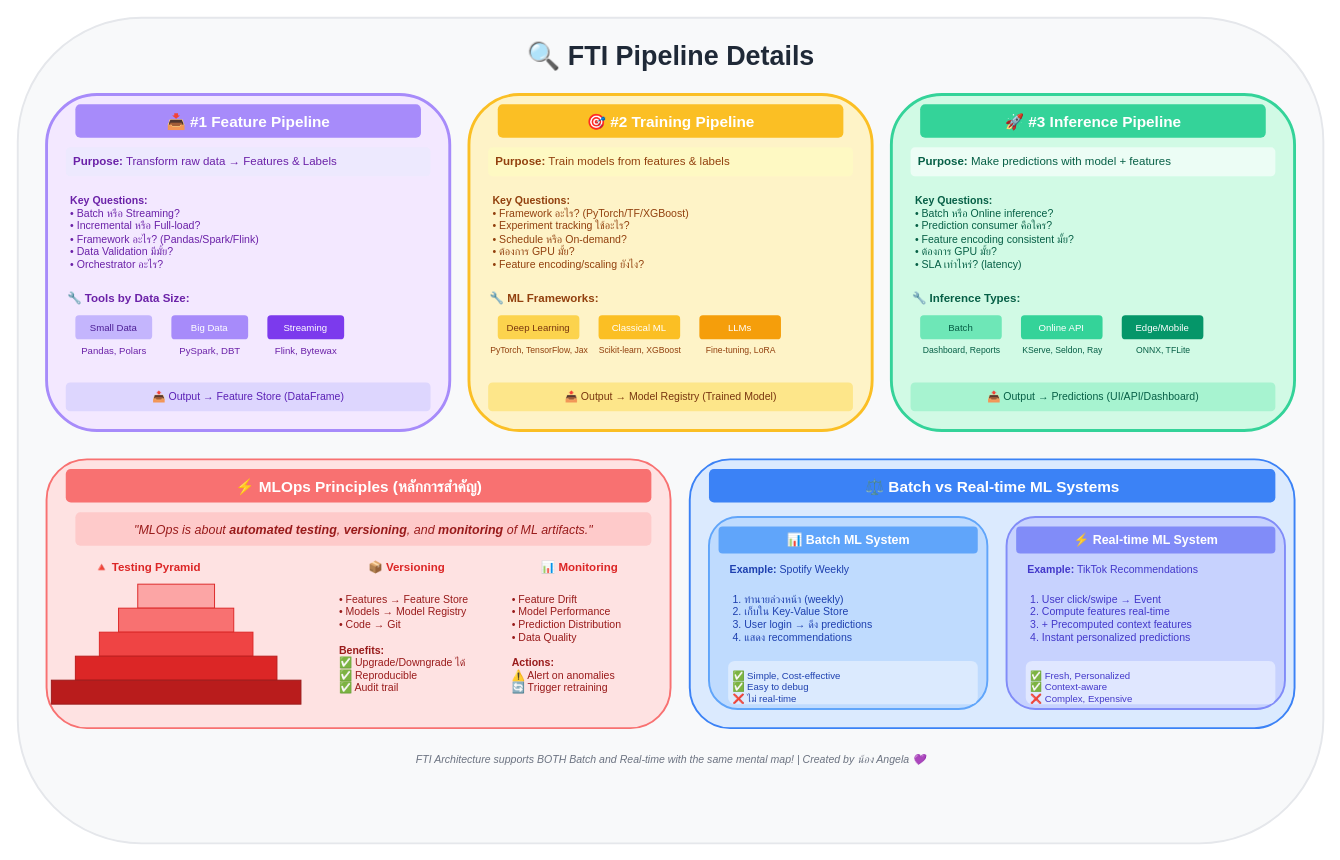
This 1340x860 diagram has some shape labels left out. The centre of each missing label's shape, as x and y in pixels:
"A/B Tests" goes at point 176,595.
"Data Validation (Great Expectations)" goes at point 175,667.
"Model Bias Tests" goes at point 176,619.
"Model Performance Tests" goes at point 175,643.
"Unit Tests (Features)" goes at point 175,691.
